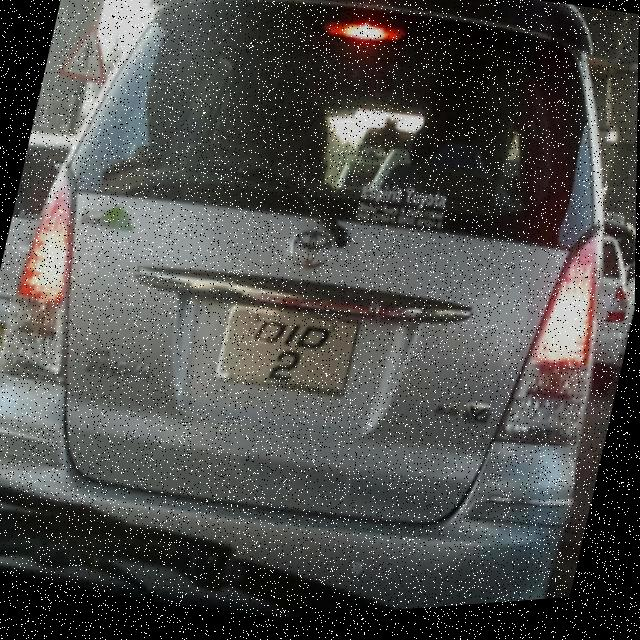license_plate: (216, 300, 362, 408)
